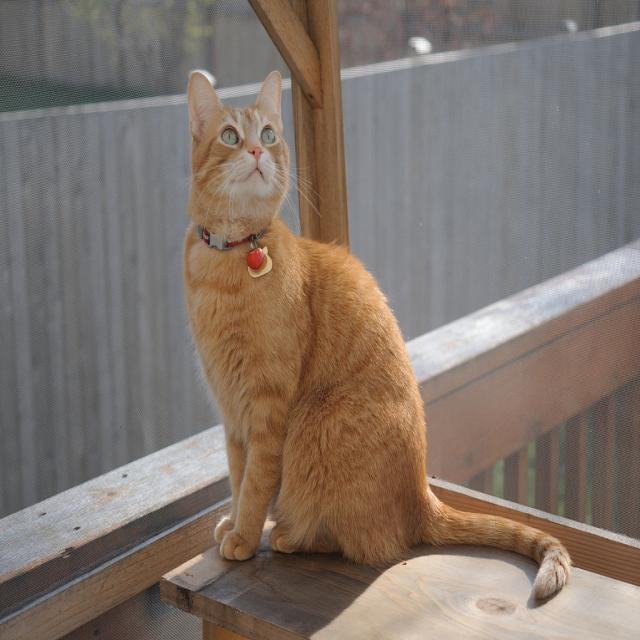Cat: (181, 69, 568, 602)
